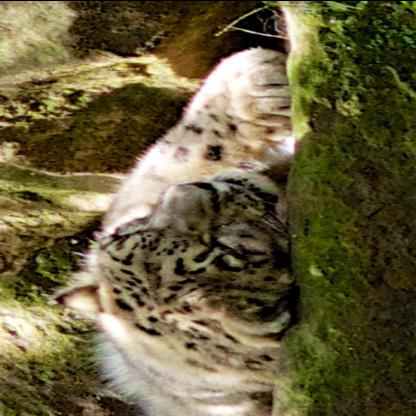tiger: (55, 178, 314, 328)
